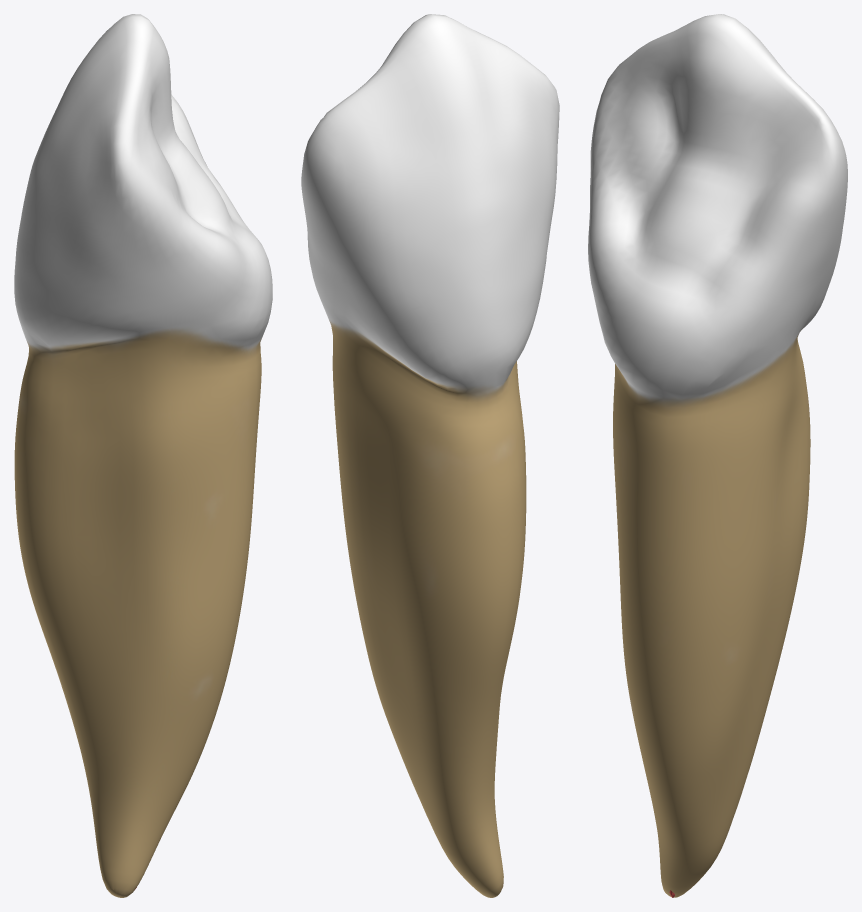
3 views of the same model, side by side, from view 1: azimuth 30°, elevation 25°; view 2: azimuth 150°, elevation 25°; view 3: azimuth 270°, elevation 25° (orthographic). The views are drawn at different scales.
Parts seen in each view (by area): view 1: outer; view 2: outer; view 3: outer.
Boxes of the visible parts, box(x1,y1,x2,y2) form: outer: box(14, 14, 272, 897); outer: box(301, 14, 559, 897); outer: box(588, 14, 847, 897).
Bounding box in the file's own units: 3.08 × 11.82 × 3.1.
2 materials, 1 textured.
